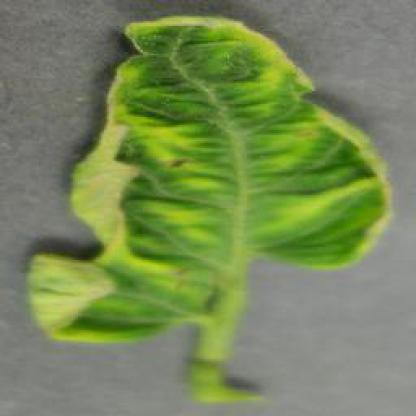good leaf: (37, 12, 392, 414)
